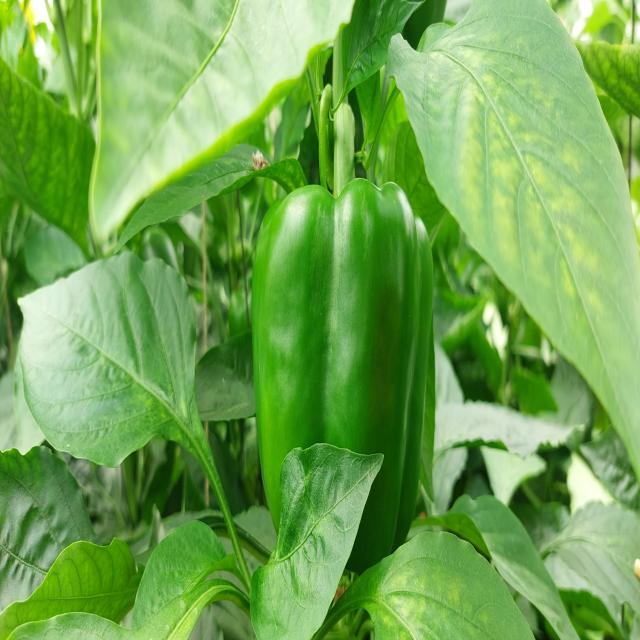Green--Not-ready-to-harvest: (253, 180, 434, 579)
